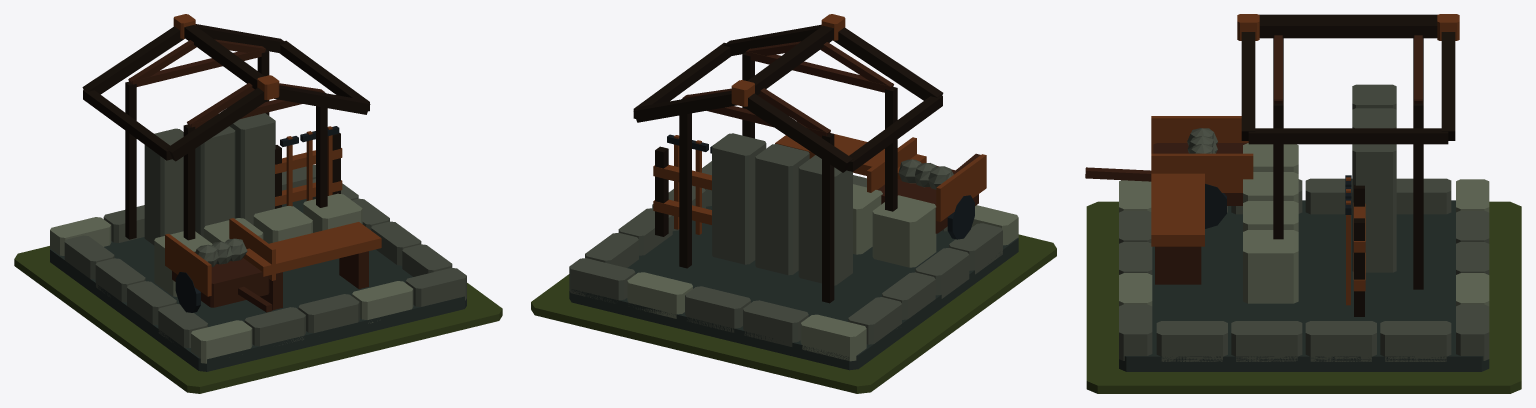
Rendered from mason_yard_t4.glb.
The picture shows the model from 3 angles, left to right: view 1: azimuth 30°, elevation 25°; view 2: azimuth 150°, elevation 25°; view 3: azimuth 270°, elevation 25°; orthographic projection. The views are drawn at different scales.
Parts seen in each view (by area): view 1: MMR | mason_yard | T04 Architecture.001, MMR | mason_yard | Tier 04 Ground.001; view 2: MMR | mason_yard | T04 Architecture.001, MMR | mason_yard | Tier 04 Ground.001; view 3: MMR | mason_yard | T04 Architecture.001, MMR | mason_yard | Tier 04 Ground.001.
Part boxes in pixels (x1,y1,x2,y2): MMR | mason_yard | T04 Architecture.001: (50, 14, 466, 371); MMR | mason_yard | Tier 04 Ground.001: (14, 246, 502, 393); MMR | mason_yard | T04 Architecture.001: (569, 14, 1018, 370); MMR | mason_yard | Tier 04 Ground.001: (531, 234, 1056, 393); MMR | mason_yard | T04 Architecture.001: (1085, 14, 1489, 371); MMR | mason_yard | Tier 04 Ground.001: (1086, 201, 1521, 393).
Size of the model in its own units: 2.35 by 1.65 by 2.36.
1 material, 1 textured.
